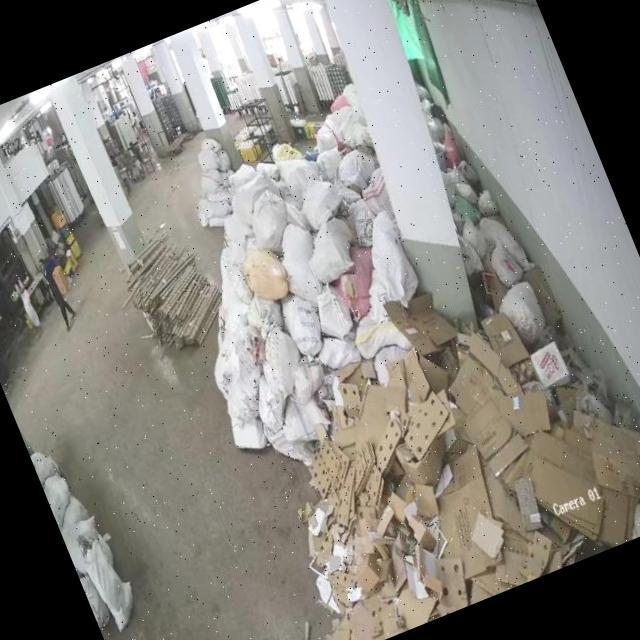person: (36, 254, 91, 344)
